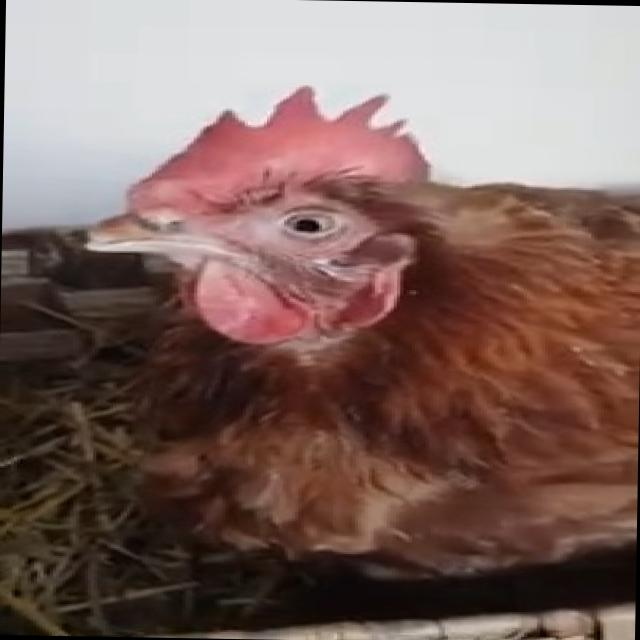bird flu: (88, 92, 640, 576)
